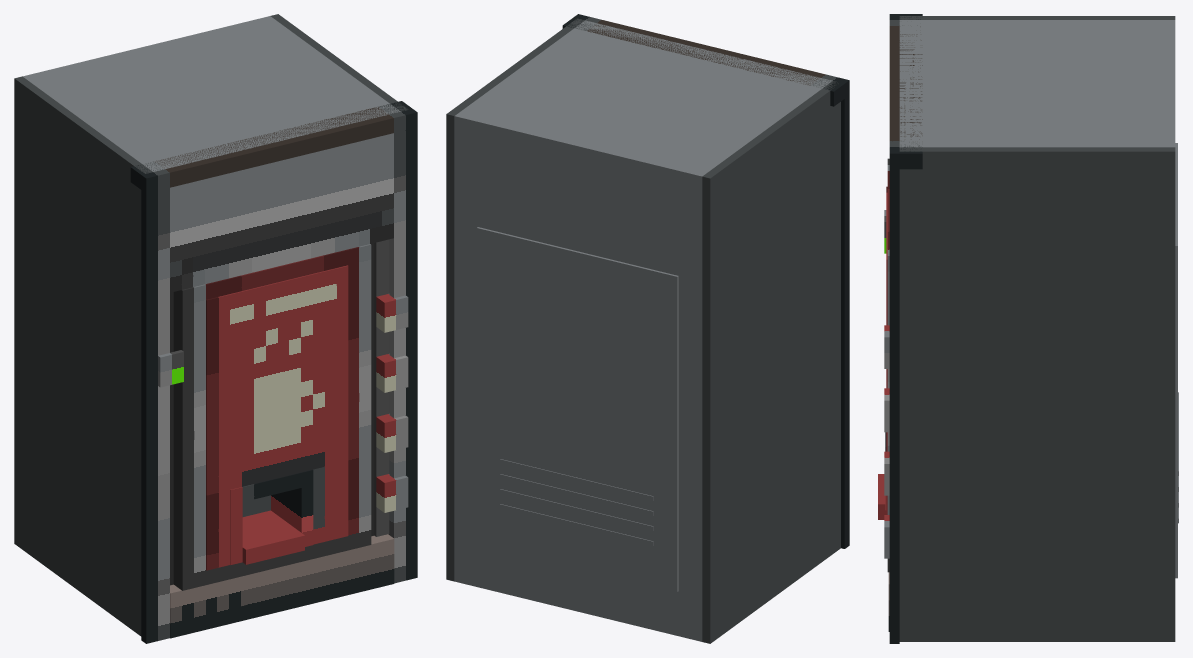
File: CMU3DCashHotDrinksVendor.glb
3 renders of one model, left to right at view 1: azimuth 30°, elevation 25°; view 2: azimuth 150°, elevation 25°; view 3: azimuth 270°, elevation 25°, orthographic. The views are drawn at different scales.
Parts seen in each view (by area): view 1: left cabinet side, cabinet roof, red cup artwork and steam, silver header, left silver face rail, bottom plinth, right silver face rail, left inset frame, source top border, right inset frame, right button strip, right pickup red panel (+15 smaller); view 2: left cabinet side, inferred rear service hatch, rear cabinet, cabinet roof, right cabinet side, left silver face rail, source top border, rear cooling slot 2, rear cooling slot 1, rear cooling slot 3, rear cooling slot 4; view 3: right cabinet side, cabinet roof, right silver face rail, source top border, rear cabinet, inferred rear service hatch, left cabinet side, right inset frame.
Part boxes in pixels (x1,y1,x2,y2): left cabinet side: [14, 76, 152, 636]; cabinet roof: [30, 21, 400, 171]; red cup artwork and steam: [206, 265, 348, 495]; silver header: [170, 133, 393, 292]; left silver face rail: [141, 188, 169, 643]; bottom plinth: [170, 534, 394, 638]; right silver face rail: [389, 127, 417, 583]; left inset frame: [173, 284, 205, 590]; source top border: [130, 101, 417, 193]; right inset frame: [347, 244, 371, 550]; right button strip: [374, 239, 389, 536]; right pickup red panel: [313, 461, 348, 544]; left cabinet side: [702, 81, 840, 643]; inferred rear service hatch: [476, 227, 678, 591]; rear cabinet: [454, 110, 709, 641]; cabinet roof: [462, 20, 832, 170]; right cabinet side: [446, 18, 584, 581]; left silver face rail: [841, 95, 849, 548]; source top border: [562, 14, 849, 106]; rear cooling slot 2: [500, 474, 653, 515]; rear cooling slot 1: [500, 459, 653, 500]; rear cooling slot 3: [500, 489, 653, 530]; rear cooling slot 4: [500, 504, 653, 545]; right cabinet side: [899, 147, 1175, 641]; cabinet roof: [899, 20, 1159, 147]; right silver face rail: [889, 169, 899, 643]; source top border: [889, 14, 922, 169]; rear cabinet: [1159, 20, 1175, 147]; inferred rear service hatch: [1175, 143, 1177, 578]; left cabinet side: [899, 16, 1175, 19]; right inset frame: [887, 243, 889, 572].
Size of the model in its own units: 0.7188 by 1.18 by 0.655.
25 materials, 21 textured.
